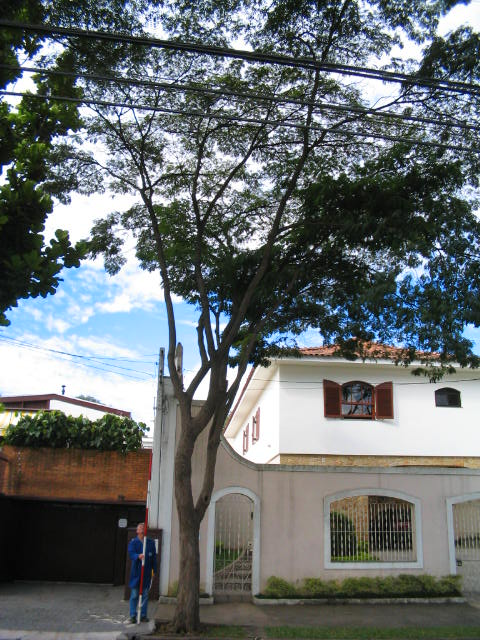stem: (160, 498, 216, 630)
stick: (134, 451, 157, 623)
tree: (63, 8, 367, 635)
